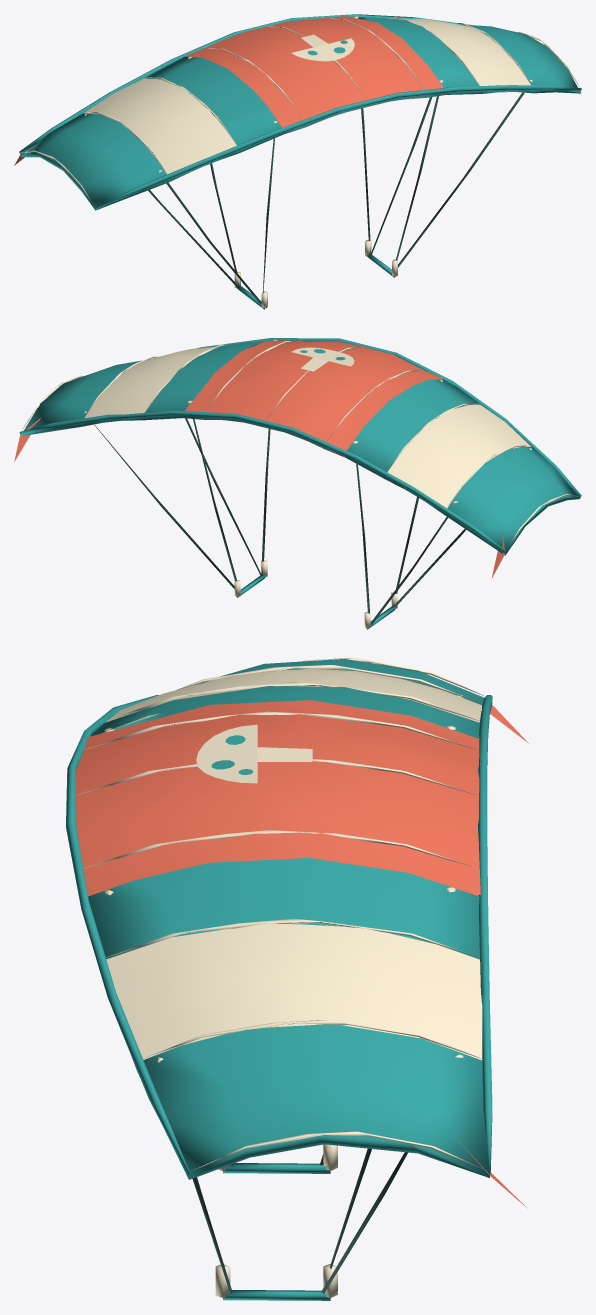
The model's file is glider.glb.
3 renders of one model, top to bottom at view 1: azimuth 30°, elevation 25°; view 2: azimuth 150°, elevation 25°; view 3: azimuth 270°, elevation 25°, orthographic. The views are drawn at different scales.
Parts seen in each view (by area): view 1: GliderTrim_Geometry, GliderPaint_Geometry, GliderCream_Geometry, GliderRope_Geometry; view 2: GliderTrim_Geometry, GliderPaint_Geometry, GliderCream_Geometry, GliderRope_Geometry; view 3: GliderTrim_Geometry, GliderPaint_Geometry, GliderCream_Geometry, GliderRope_Geometry.
Boxes of the visible parts, x1=… form: GliderTrim_Geometry: x1=19, y1=14, x2=581, y2=309; GliderPaint_Geometry: x1=14, y1=16, x2=445, y2=165; GliderCream_Geometry: x1=21, y1=16, x2=579, y2=308; GliderRope_Geometry: x1=148, y1=92, x2=524, y2=304; GliderTrim_Geometry: x1=19, y1=338, x2=581, y2=629; GliderPaint_Geometry: x1=14, y1=340, x2=505, y2=578; GliderCream_Geometry: x1=22, y1=339, x2=579, y2=628; GliderRope_Geometry: x1=94, y1=418, x2=465, y2=625; GliderTrim_Geometry: x1=66, y1=659, x2=492, y2=1300; GliderPaint_Geometry: x1=75, y1=700, x2=529, y2=1208; GliderCream_Geometry: x1=76, y1=658, x2=486, y2=1297; GliderRope_Geometry: x1=192, y1=1148, x2=407, y2=1294.
Bounding box in the file's own units: 5.02 × 2.39 × 2.07.
